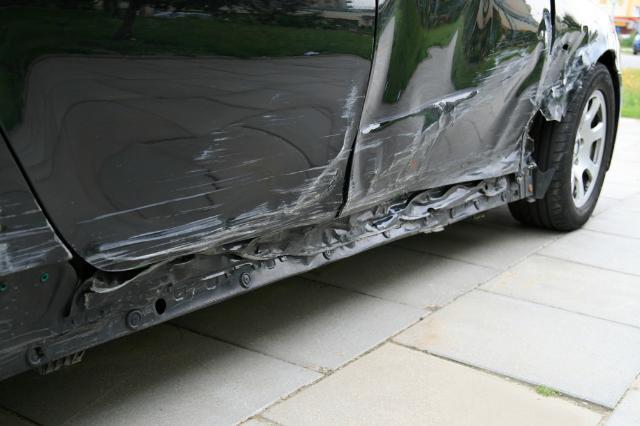no part: (2, 166, 533, 380)
scratch: (66, 83, 361, 270), (334, 34, 542, 218), (0, 193, 71, 275)
